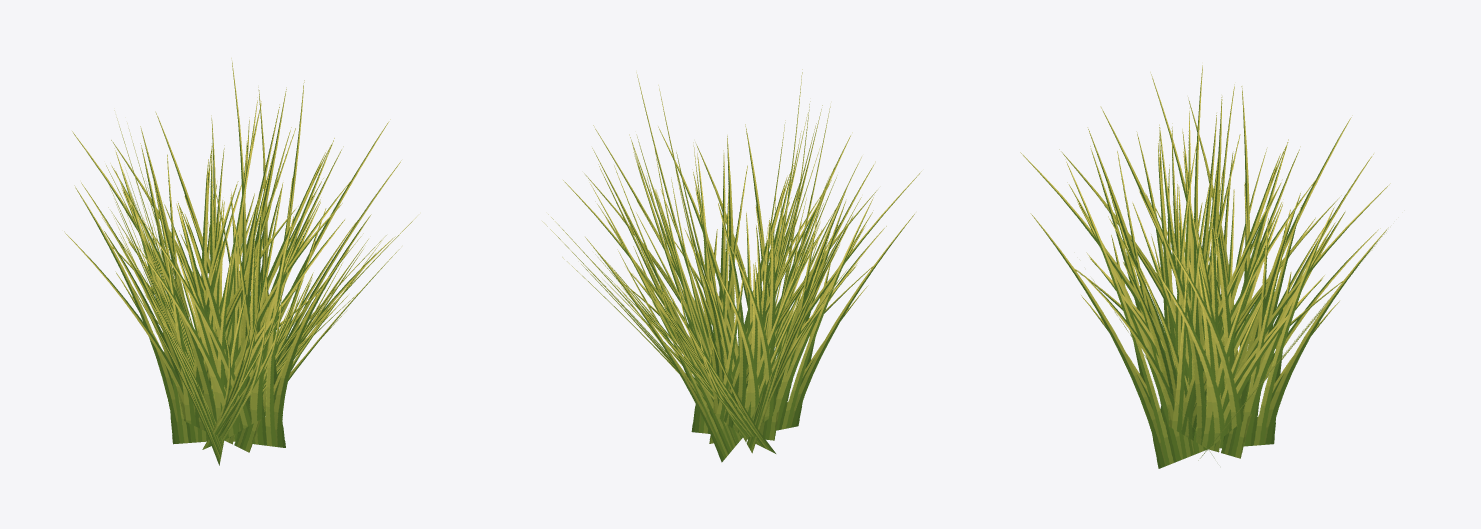
The model's file is grass_tall_a.glb.
3 renders of one model, left to right at view 1: azimuth 30°, elevation 25°; view 2: azimuth 150°, elevation 25°; view 3: azimuth 270°, elevation 25°, orthographic. The views are drawn at different scales.
Visible parts, largest first — view 1: grass_tall_a; view 2: grass_tall_a; view 3: grass_tall_a.
Boxes of the visible parts, <box> form: grass_tall_a: <box>64,58,416,465</box>; grass_tall_a: <box>542,69,921,462</box>; grass_tall_a: <box>1020,65,1390,468</box>.
Size of the model in its own units: 0.6573 by 0.5641 by 0.7115.
1 material, 1 textured.
